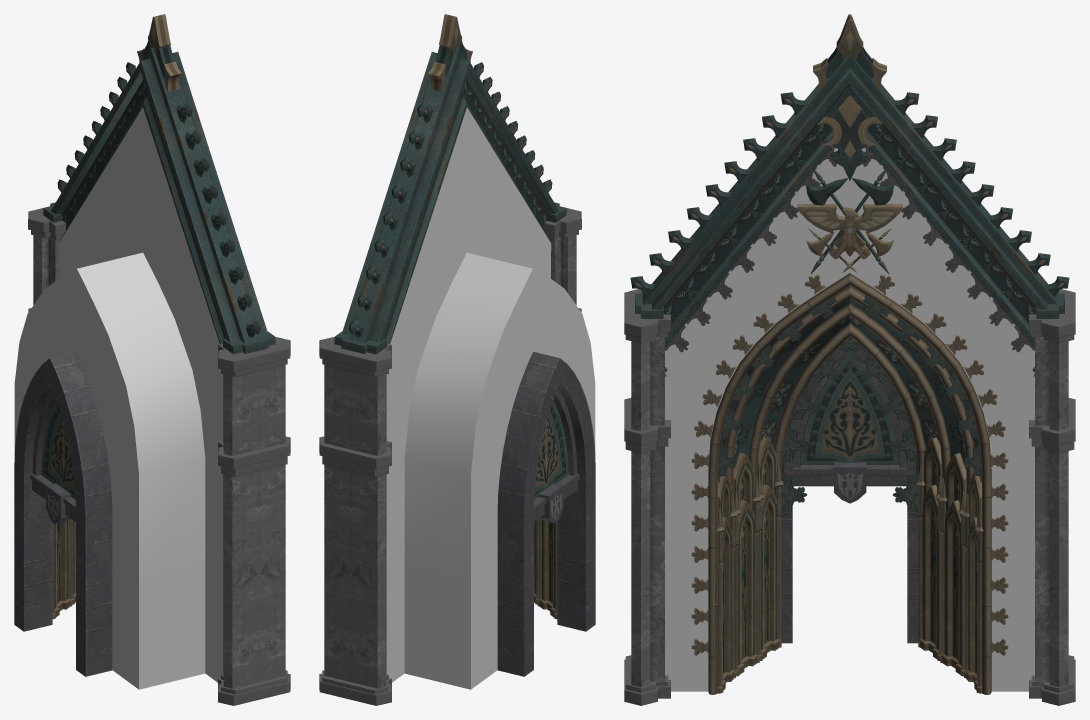
Rendered from bg_rad_kamen_gate01_sm_jjh.obj.
3 renders of one model, left to right at view 1: azimuth 30°, elevation 25°; view 2: azimuth 150°, elevation 25°; view 3: azimuth 270°, elevation 25°, orthographic. The views are drawn at different scales.
Parts seen in each view (by area): view 1: bg_rad_kamen_gate01_sm_jjh_2, bg_rad_kamen_gate01_sm_jjh_1, bg_rad_kamen_gate01_sm_jjh_0, bg_rad_kamen_gate01_sm_jjh_3; view 2: bg_rad_kamen_gate01_sm_jjh_2, bg_rad_kamen_gate01_sm_jjh_1, bg_rad_kamen_gate01_sm_jjh_0, bg_rad_kamen_gate01_sm_jjh_3; view 3: bg_rad_kamen_gate01_sm_jjh_1, bg_rad_kamen_gate01_sm_jjh_2, bg_rad_kamen_gate01_sm_jjh_0, bg_rad_kamen_gate01_sm_jjh_3.
Part boxes in pixels (x1,y1,x2,y2): bg_rad_kamen_gate01_sm_jjh_2: (14,107,223,689); bg_rad_kamen_gate01_sm_jjh_1: (33,47,285,688); bg_rad_kamen_gate01_sm_jjh_0: (14,14,290,705); bg_rad_kamen_gate01_sm_jjh_3: (52,519,75,619); bg_rad_kamen_gate01_sm_jjh_2: (386,107,595,689); bg_rad_kamen_gate01_sm_jjh_1: (324,47,576,688); bg_rad_kamen_gate01_sm_jjh_0: (319,14,595,705); bg_rad_kamen_gate01_sm_jjh_3: (534,519,557,619); bg_rad_kamen_gate01_sm_jjh_1: (631,54,1068,694); bg_rad_kamen_gate01_sm_jjh_2: (665,147,1034,691); bg_rad_kamen_gate01_sm_jjh_0: (624,14,1075,705); bg_rad_kamen_gate01_sm_jjh_3: (716,169,983,693).
Bounding box in the file's own units: 2.44 × 9.74 × 5.95.
Materials: 4 (3 with a texture image).
